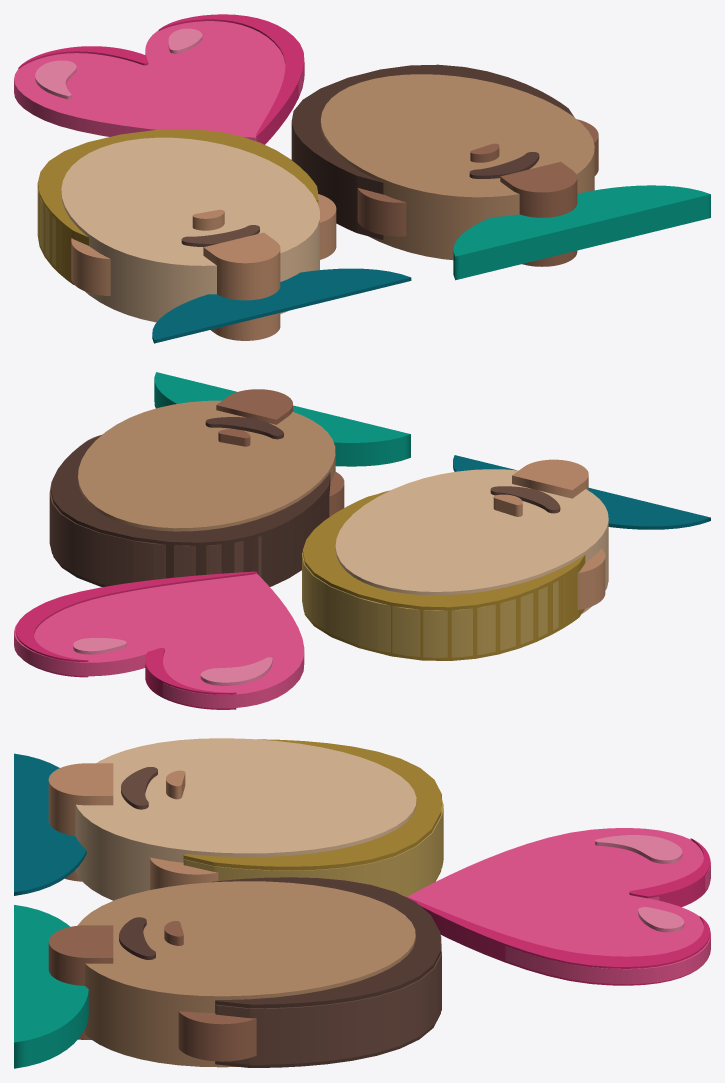
The model's file is emoji_u1f468_1f3fc_200d_2764_200d_1f468_1f3fd.glb.
The picture shows the model from 3 angles, top to bottom: view 1: azimuth 30°, elevation 25°; view 2: azimuth 150°, elevation 25°; view 3: azimuth 270°, elevation 25°; orthographic projection. The views are drawn at different scales.
Parts seen in each view (by area): view 1: emoji_u1f468_1f3fc_200d_2764_200d_1f468_1f3fd; view 2: emoji_u1f468_1f3fc_200d_2764_200d_1f468_1f3fd; view 3: emoji_u1f468_1f3fc_200d_2764_200d_1f468_1f3fd.
Boxes of the visible parts, <box> form: emoji_u1f468_1f3fc_200d_2764_200d_1f468_1f3fd: <box>14,14,710,343</box>; emoji_u1f468_1f3fc_200d_2764_200d_1f468_1f3fd: <box>14,372,710,709</box>; emoji_u1f468_1f3fc_200d_2764_200d_1f468_1f3fd: <box>14,738,710,1068</box>.
Size of the model in its own units: 0.0345 by 0.005 by 0.0338.
